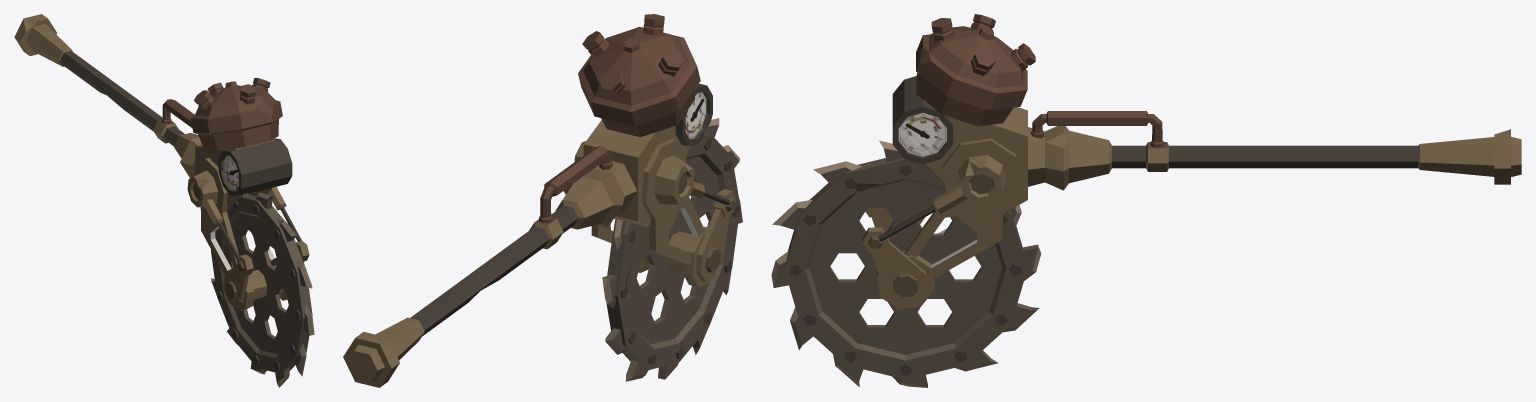
File: Saw_01.fbx
The picture shows the model from 3 angles, left to right: view 1: azimuth 30°, elevation 25°; view 2: azimuth 150°, elevation 25°; view 3: azimuth 270°, elevation 25°; orthographic projection. The views are drawn at different scales.
Parts seen in each view (by area): view 1: Saw_01, Saw_01_Blade; view 2: Saw_01, Saw_01_Blade; view 3: Saw_01, Saw_01_Blade.
Boxes of the visible parts, box(x1,y1,x2,y2) form: Saw_01: box(14, 14, 309, 311); Saw_01_Blade: box(211, 192, 314, 387); Saw_01: box(343, 14, 736, 387); Saw_01_Blade: box(602, 118, 742, 381); Saw_01: box(862, 14, 1521, 309); Saw_01_Blade: box(771, 140, 1041, 387).
Bounding box in the file's own units: 0.2412 × 0.8471 × 1.57.
